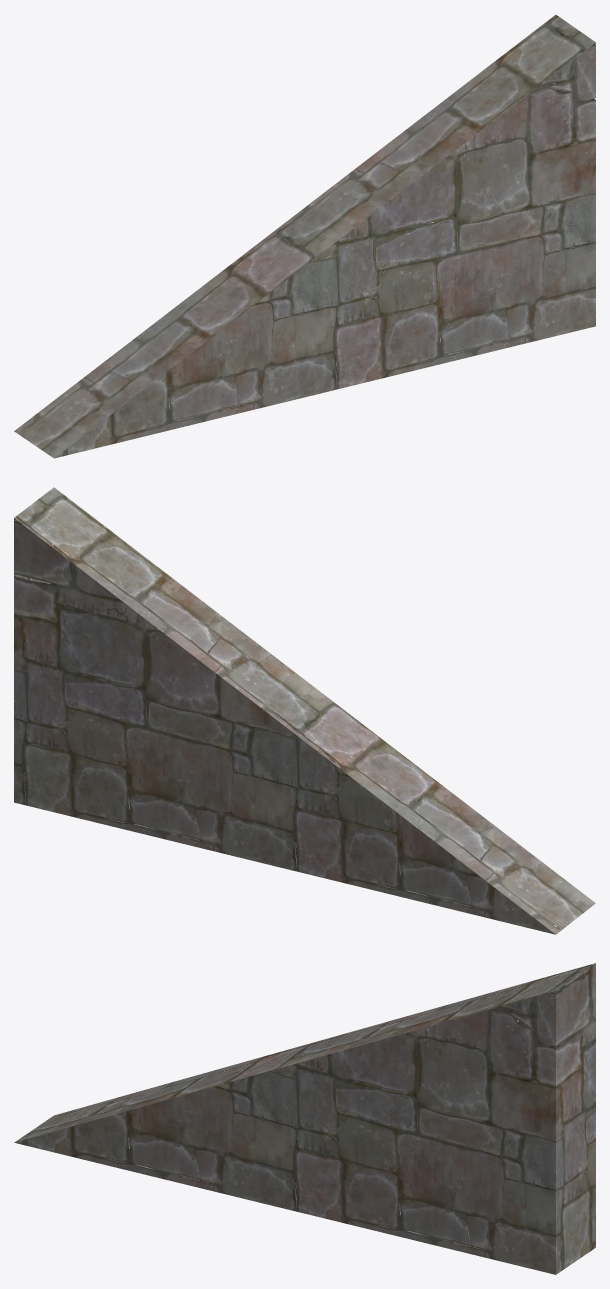
3 renders of one model, top to bottom at view 1: azimuth 30°, elevation 25°; view 2: azimuth 150°, elevation 25°; view 3: azimuth 330°, elevation 25°, orthographic.
Visible parts, largest first — view 1: SM_BB_T3_Wall_Slanted_Shallow_Large_LOD0; view 2: SM_BB_T3_Wall_Slanted_Shallow_Large_LOD0; view 3: SM_BB_T3_Wall_Slanted_Shallow_Large_LOD0.
Part boxes in pixels (x1,y1,x2,y2): SM_BB_T3_Wall_Slanted_Shallow_Large_LOD0: (14,14,595,458); SM_BB_T3_Wall_Slanted_Shallow_Large_LOD0: (14,487,595,934); SM_BB_T3_Wall_Slanted_Shallow_Large_LOD0: (14,963,595,1274).
Size of the model in its own units: 3 by 1.51 by 0.3844.
Materials: 1 (1 with a texture image).
